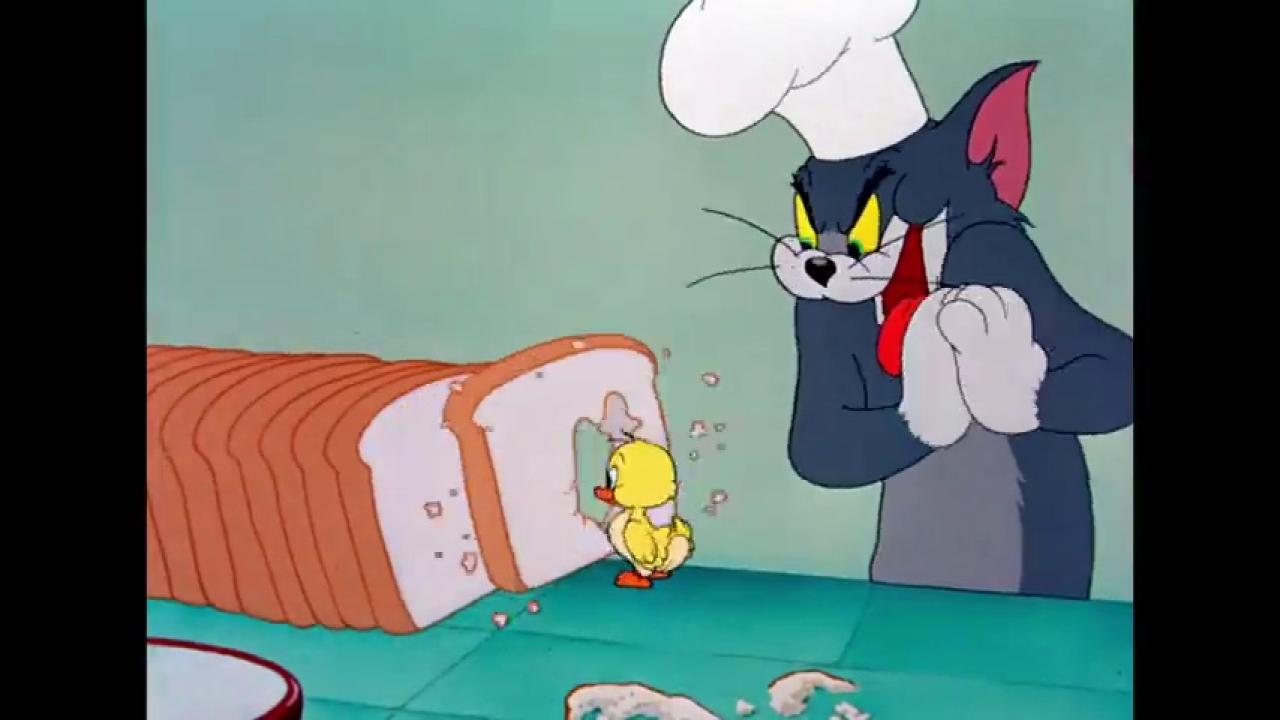Tom: (768, 58, 1134, 601)
